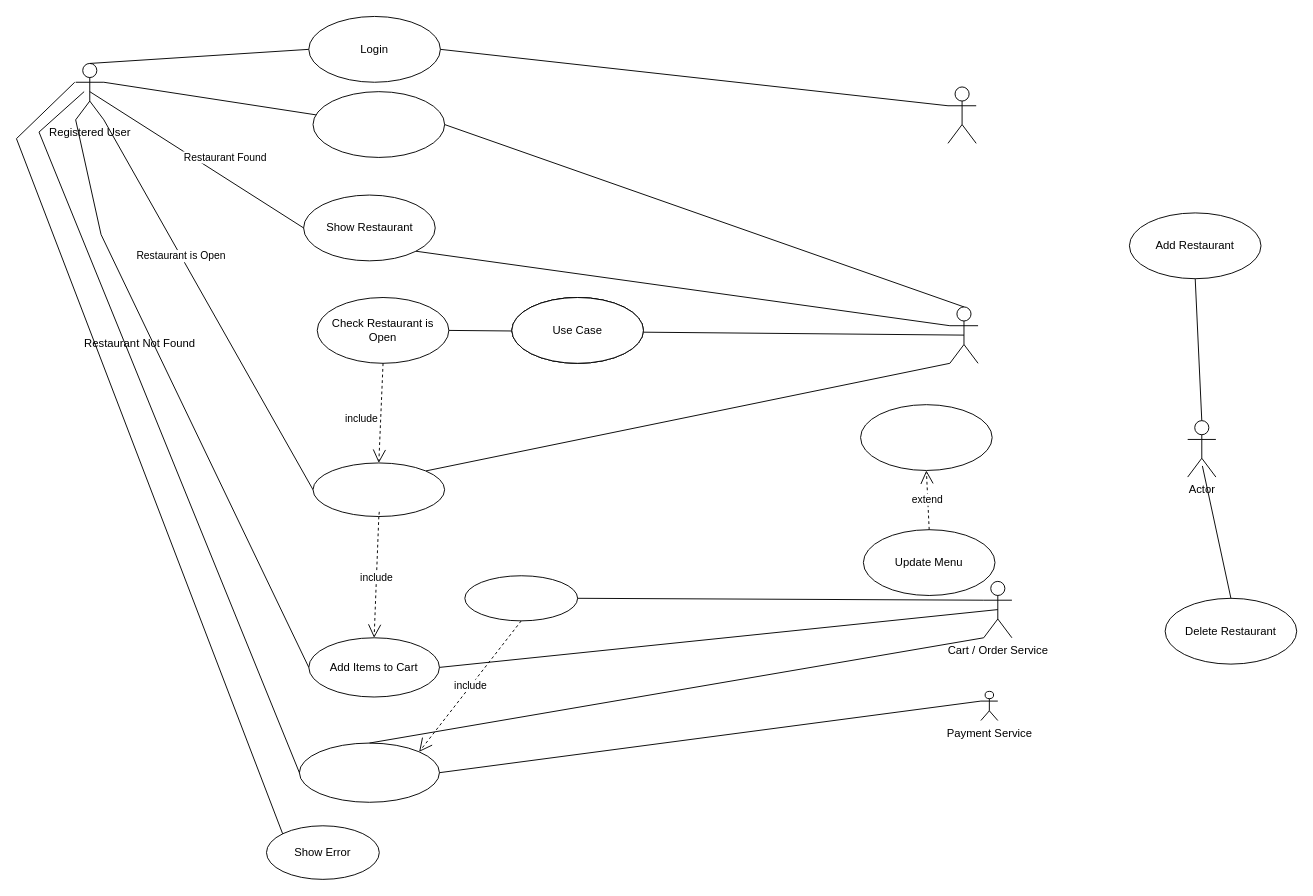
This 1313x896 diagram has some shape labels left out. Each missing label, with the centre of its shape:
Authentication Service: [961,114]
Calculate Cart: [521,598]
Payment and checkout: [368,772]
Restaurant Service: [963,334]
Search Restaurant: [378,124]
Show Menu: [378,489]
Update Restaurant: [926,437]
